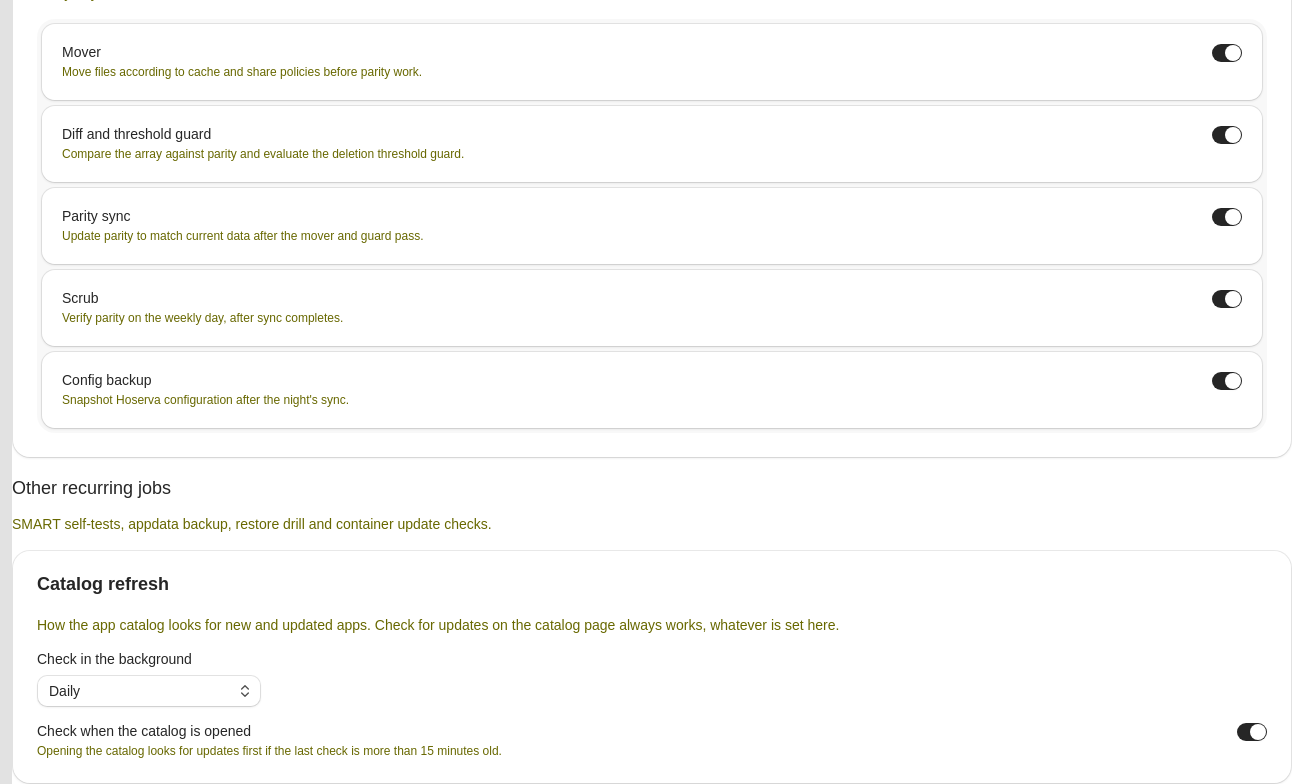
it: Catalog refresh card on the schedules page › shows a refused save as an error and keeps showing the stored value
(page scrolled)
Click the switch named "Check when the catalog is opened": [1252, 732] box [1237, 723, 1267, 741]
(page scrolled)
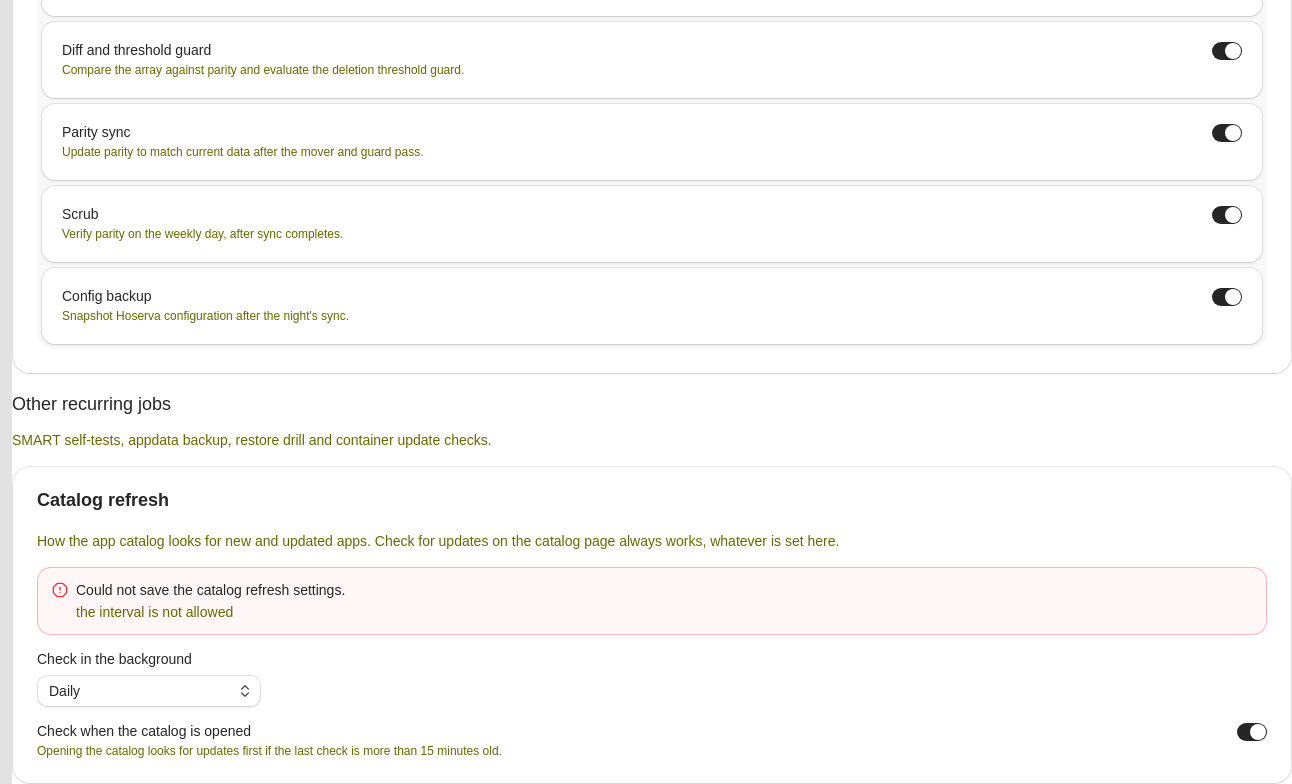
Expected: the text "the interval is not allowed" is shown, [76, 604, 233, 620]
Expected: the text "Could not save the catalog refresh settings." is shown, [76, 582, 345, 598]
